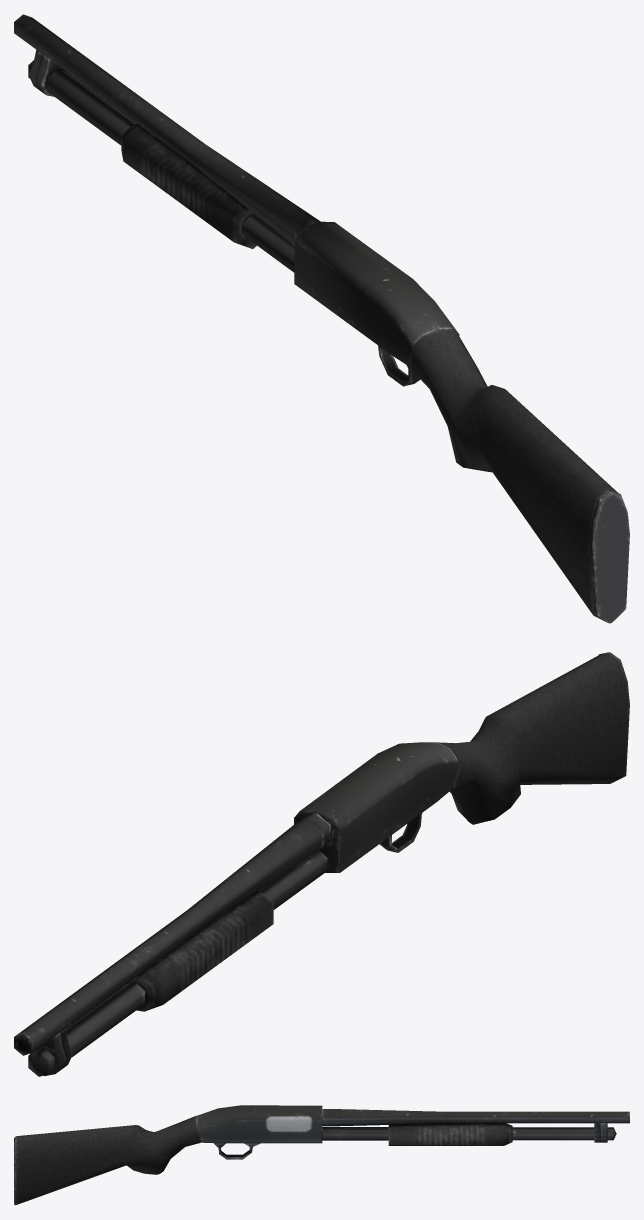
The model's file is Remington_Plastic_Black.fbx.
3 renders of one model, top to bottom at view 1: azimuth 30°, elevation 25°; view 2: azimuth 150°, elevation 25°; view 3: azimuth 270°, elevation 25°, orthographic. The views are drawn at different scales.
Parts seen in each view (by area): view 1: Remington_Plastic_Black; view 2: Remington_Plastic_Black; view 3: Remington_Plastic_Black.
Part boxes in pixels (x1,y1,x2,y2): Remington_Plastic_Black: [14, 14, 629, 623]; Remington_Plastic_Black: [14, 652, 629, 1076]; Remington_Plastic_Black: [14, 1105, 629, 1205].
Bounding box in the file's own units: 0.0281 × 0.6064 × 0.1064.
